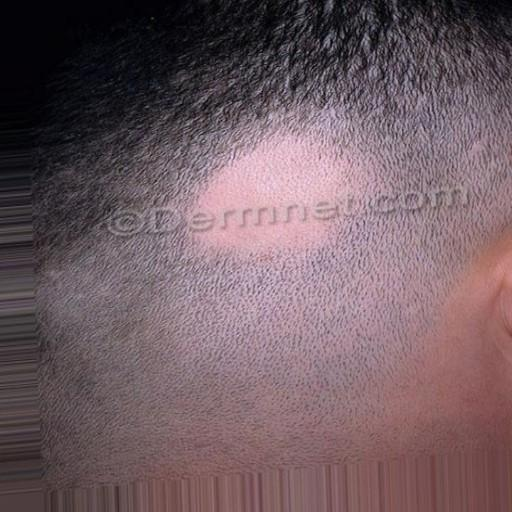Alopecia Areata: (142, 120, 415, 252)
